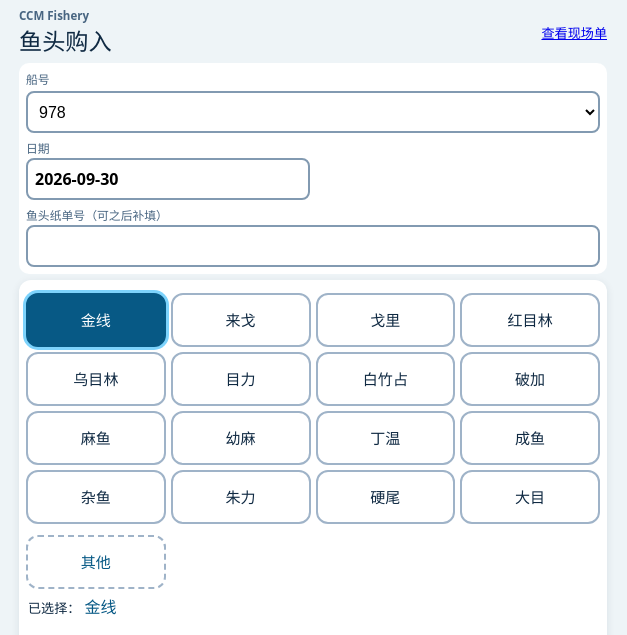
Scenario: 鱼头采购输入与保存准备状态 › 切换船号后可立即继续使用 kg/keypad，待新船核对完成再允许保存
Select "833" in the dropdown labelled "船号" at (313, 112), box [26,91,600,133]
(page scrolled)
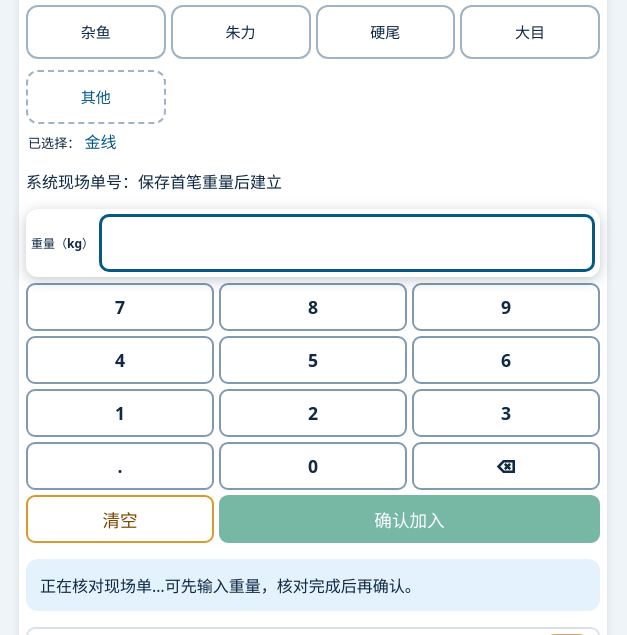
Expected: the field labelled "重量（kg）" is enabled, [99,214,595,272]
Click the button "6".
click(506, 360)  # box [412,336,600,384]
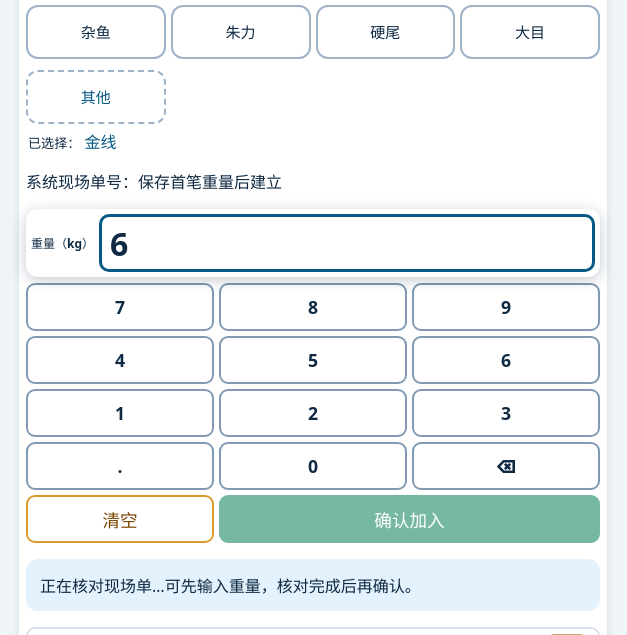
Expected: the button "确认加入" is disabled, [219,495,600,543]
Expected: the field labelled "重量（kg）" holds "6"
Press Enter in the field labelled "重量（kg）", box [99,214,595,272]
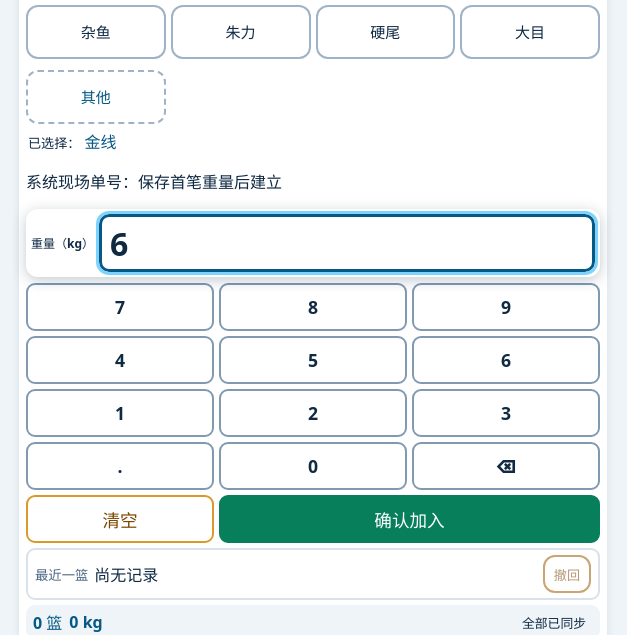
Expected: the field labelled "重量（kg）" holds "6", [99,214,595,272]
Expected: the button "确认加入" is enabled, [219,495,600,543]
